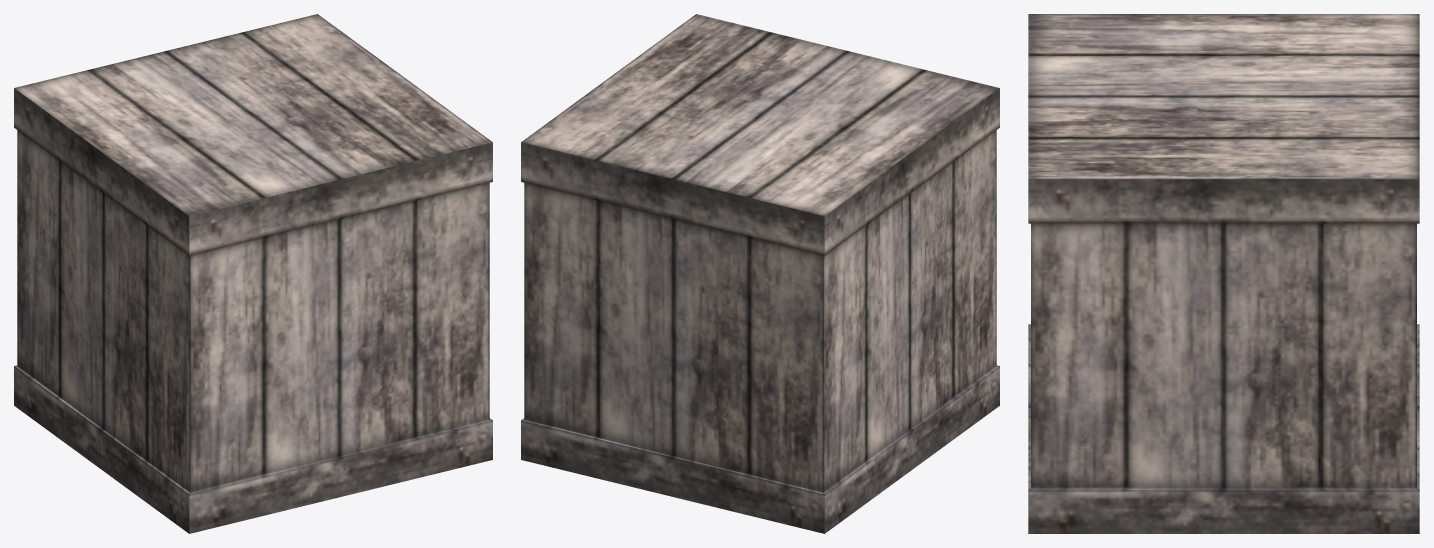
The model's file is crate1.FBX.
The picture shows the model from 3 angles, left to right: view 1: azimuth 30°, elevation 25°; view 2: azimuth 150°, elevation 25°; view 3: azimuth 270°, elevation 25°; orthographic projection. The views are drawn at different scales.
Parts seen in each view (by area): view 1: crate1_LOD0; view 2: crate1_LOD0; view 3: crate1_LOD0.
Boxes of the visible parts, x1=… form: crate1_LOD0: x1=14, y1=14, x2=492, y2=533; crate1_LOD0: x1=521, y1=14, x2=999, y2=533; crate1_LOD0: x1=1028, y1=14, x2=1419, y2=533.
Size of what is drawn, in the model's own units: 0.9015 by 0.9015 by 0.9015.
